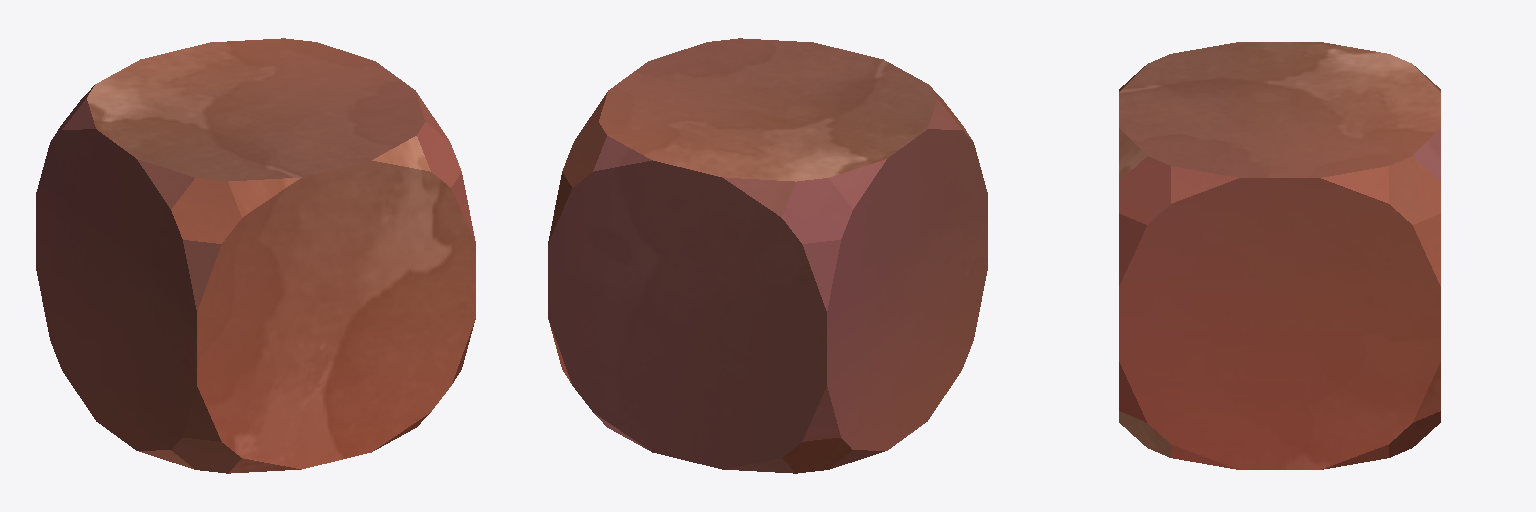
3 views of the same model, side by side, from view 1: azimuth 30°, elevation 25°; view 2: azimuth 150°, elevation 25°; view 3: azimuth 270°, elevation 25° (orthographic).
Visible parts, largest first — view 1: Cube; view 2: Cube; view 3: Cube.
Part boxes in pixels (x1,y1,x2,y2): Cube: (36,38,475,473); Cube: (548,38,987,473); Cube: (1119,42,1440,469).
Size of the model in its own units: 2 by 2 by 2.
Materials: 1 (1 with a texture image).